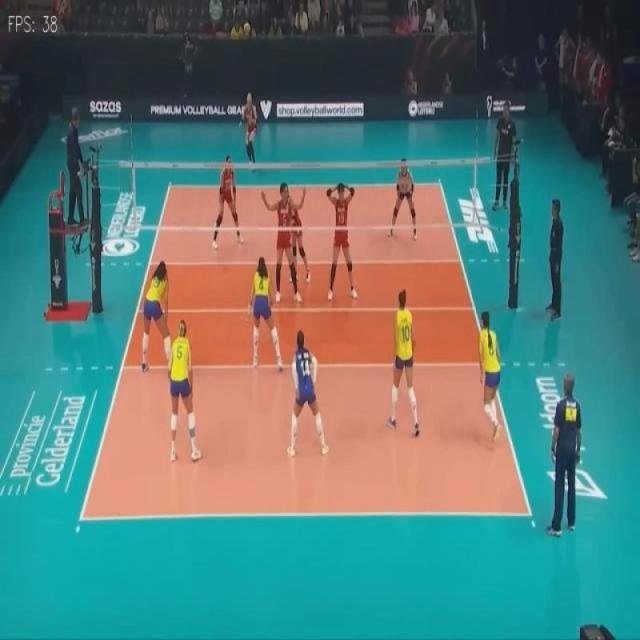volleyball: (243, 22, 251, 35)
